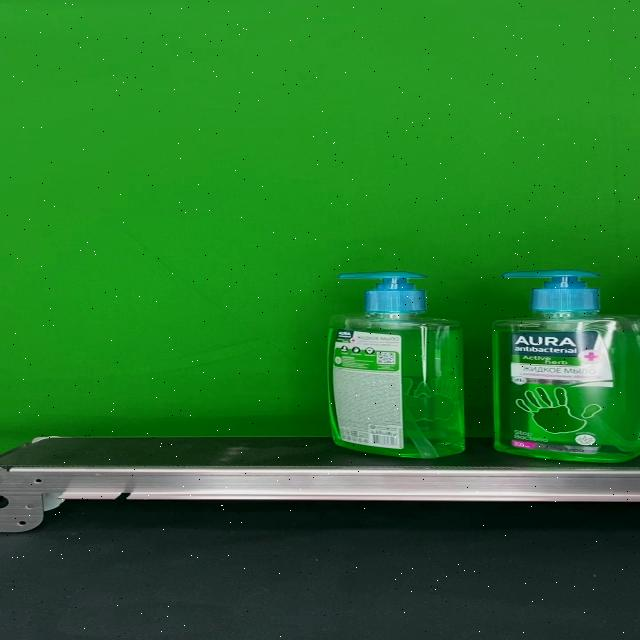Bottle: (491, 270, 640, 462), (326, 271, 465, 458)
Cap: (501, 270, 600, 312), (337, 272, 428, 314)
